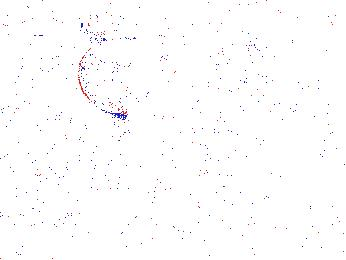moon jellyfish: (267, 35, 346, 127), (108, 110, 193, 188), (213, 35, 274, 140), (76, 38, 156, 117), (1, 56, 54, 119)
